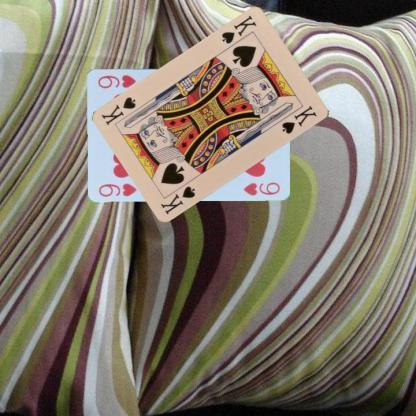9h: (96, 180, 138, 198)
Ks: (158, 183, 196, 216), (220, 13, 258, 46)
